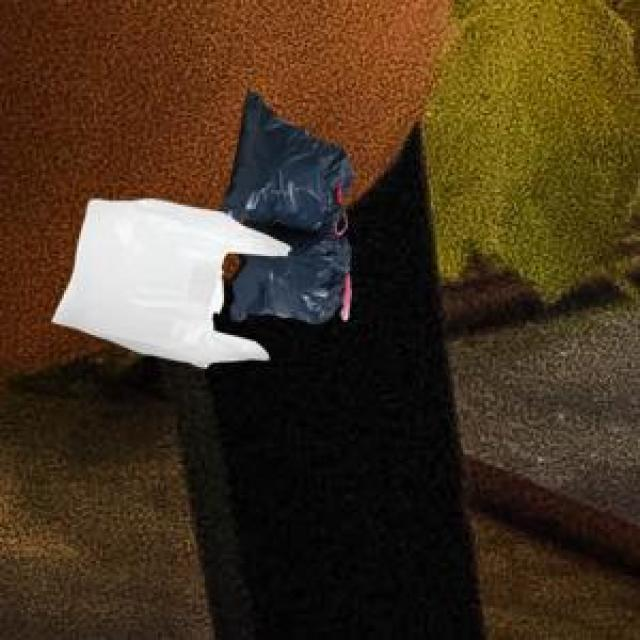miscellaneous trash: (216, 85, 350, 320)
